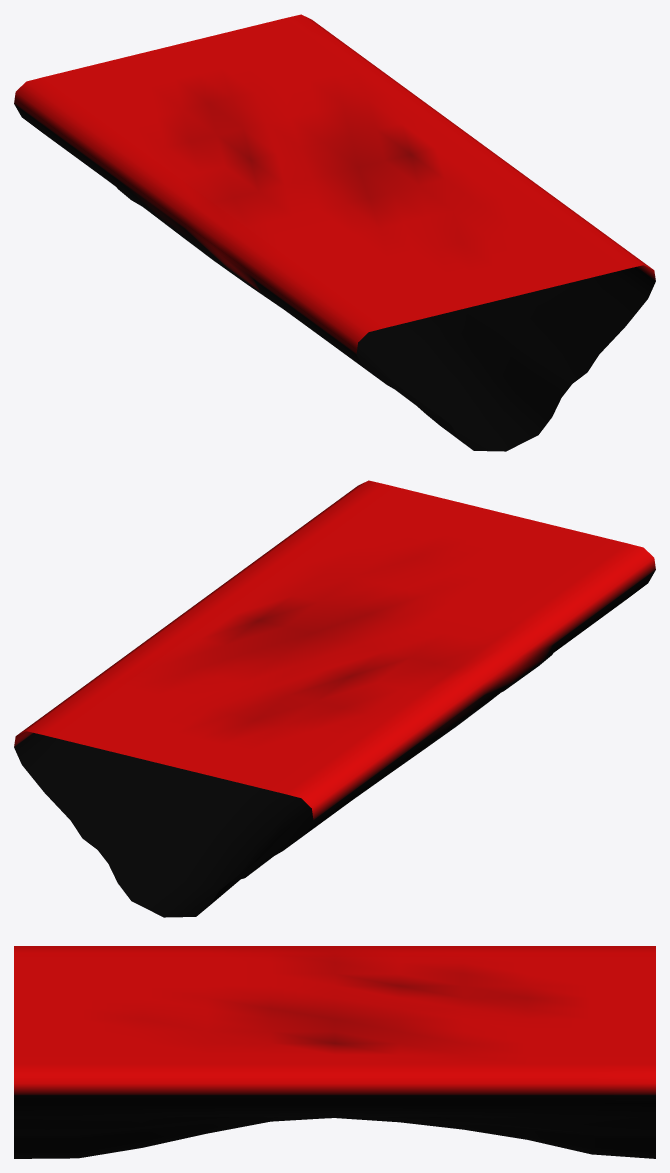
The model's file is CrossingCliff01B 1M Foreground.fbx.
3 renders of one model, top to bottom at view 1: azimuth 30°, elevation 25°; view 2: azimuth 150°, elevation 25°; view 3: azimuth 270°, elevation 25°, orthographic. The views are drawn at different scales.
Visible parts, largest first — view 1: CrossingCliff01B 1M Foreground; view 2: CrossingCliff01B 1M Foreground; view 3: CrossingCliff01B 1M Foreground.
Part boxes in pixels (<box>): CrossingCliff01B 1M Foreground: <box>14,14,655,451</box>; CrossingCliff01B 1M Foreground: <box>14,480,655,917</box>; CrossingCliff01B 1M Foreground: <box>14,946,655,1158</box>.
Size of the model in its own units: 1.01 by 0.4931 by 2.
